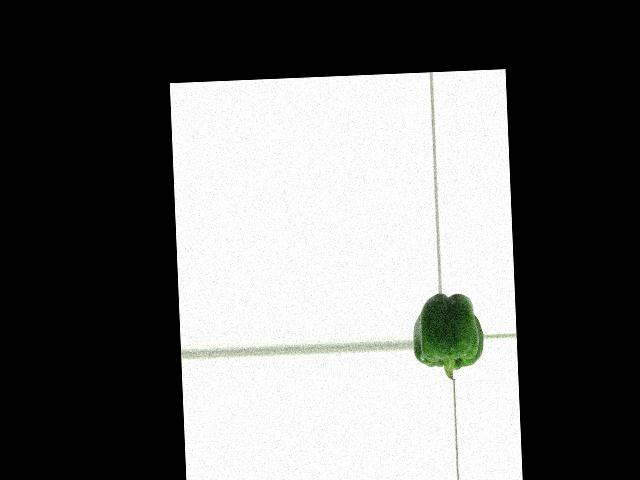bell_pepper: (412, 291, 484, 379)
